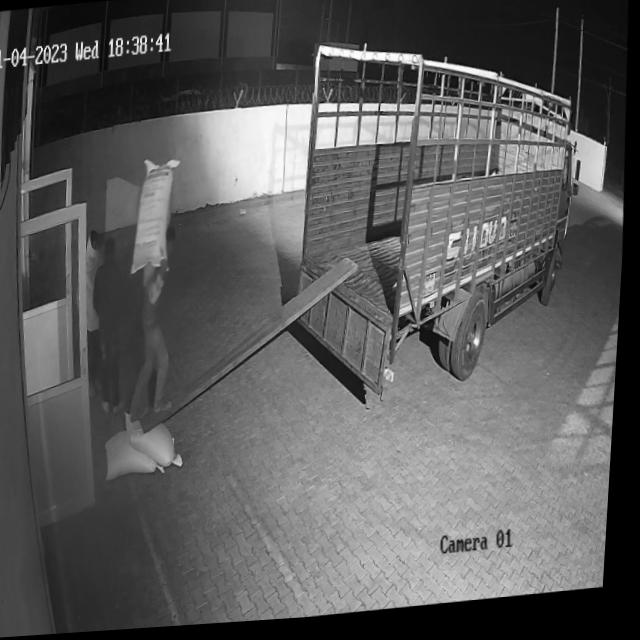sack: (130, 159, 184, 278), (109, 423, 172, 484), (126, 414, 188, 473)
